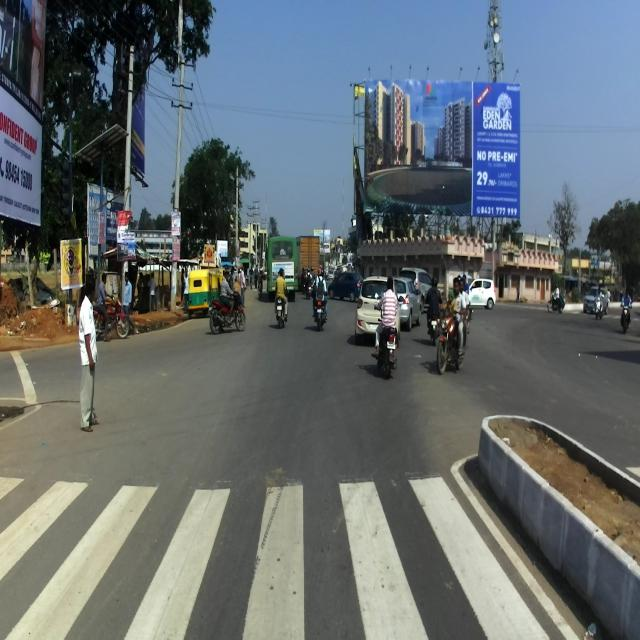Car_Hyundai: (354, 271, 401, 345)
Car_Maruti-Suzuki: (389, 275, 422, 330)
Car_Toyota: (399, 266, 436, 312)
motorcycle_Hero: (84, 291, 129, 341)
motorcycle_Suzuki: (436, 306, 470, 376)
motorcycle_TVS: (373, 291, 399, 380), (274, 284, 289, 329)
motorcycle_bajaj: (208, 290, 246, 334), (312, 288, 329, 331)
